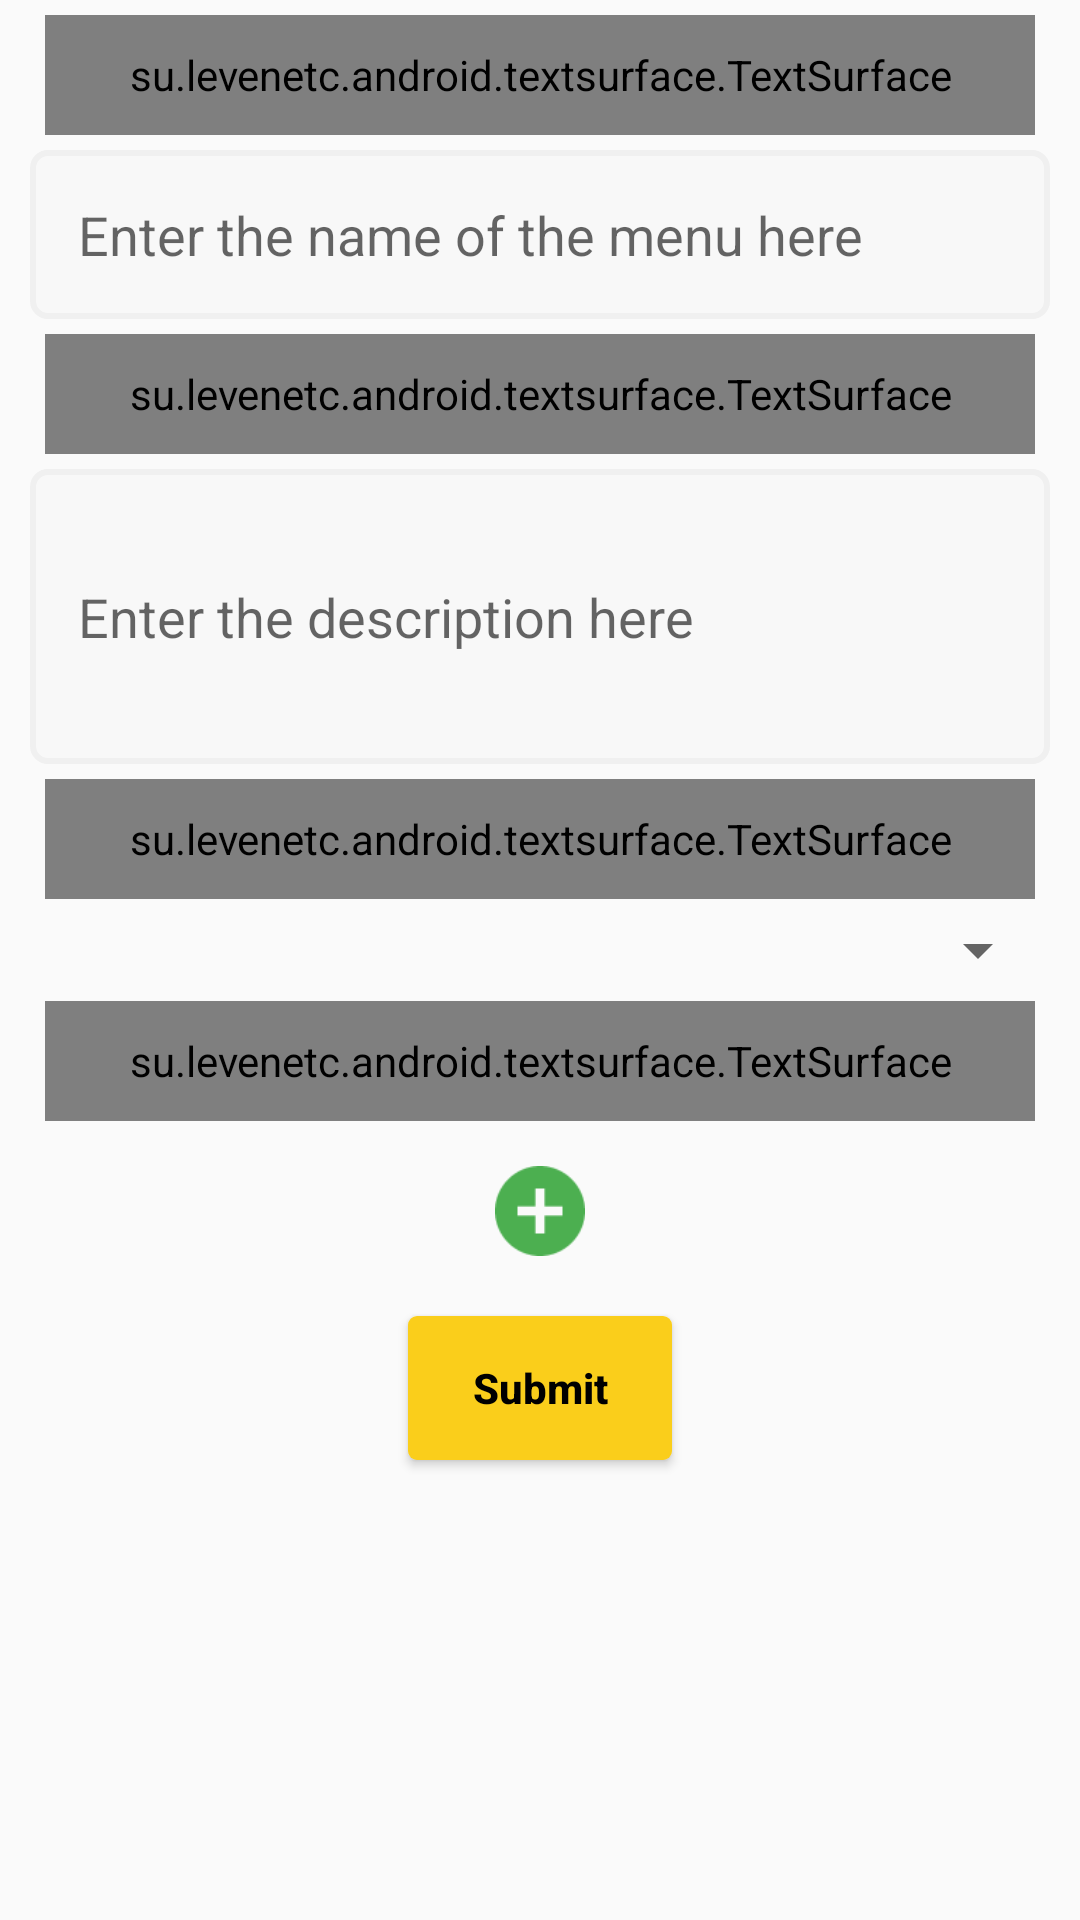

Icon click points for this 1080w x 1920h phone screenshot, format point (x, y):
plus: point (540, 1211)
